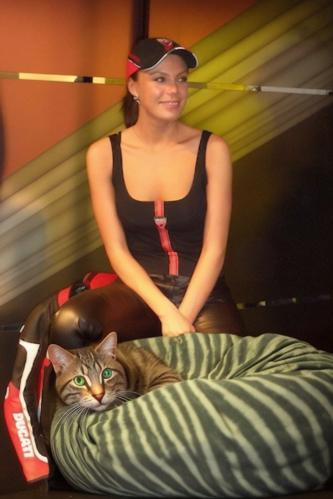cat: (48, 331, 332, 499)
person: (52, 38, 277, 499)
